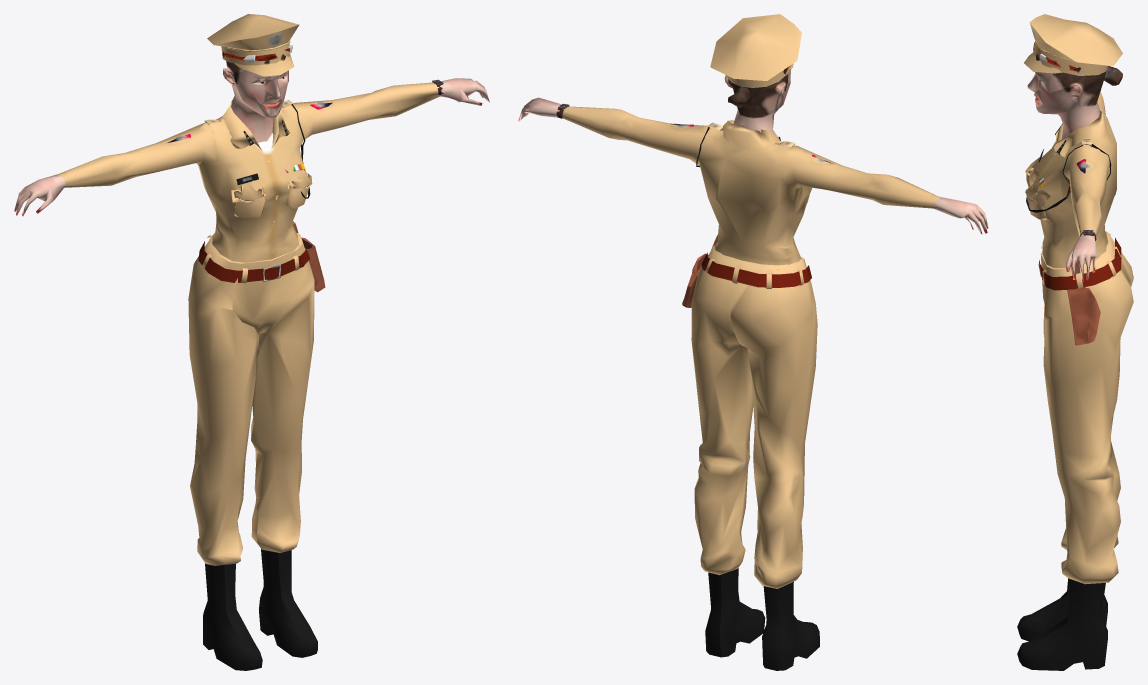
Rendered from police_f_khaki.glb.
The picture shows the model from 3 angles, left to right: view 1: azimuth 30°, elevation 25°; view 2: azimuth 150°, elevation 25°; view 3: azimuth 270°, elevation 25°; orthographic projection.
Visible parts, largest first — view 1: police_f_khaki; view 2: police_f_khaki; view 3: police_f_khaki.
Boxes of the visible parts, x1=… form: police_f_khaki: x1=14, y1=14, x2=489, y2=670; police_f_khaki: x1=518, y1=14, x2=988, y2=670; police_f_khaki: x1=1017, y1=14, x2=1133, y2=670.
Size of the model in its own units: 1.27 by 1.62 by 0.2729.
1 material, 1 textured.
